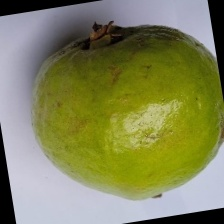guava: (14, 4, 188, 178)
